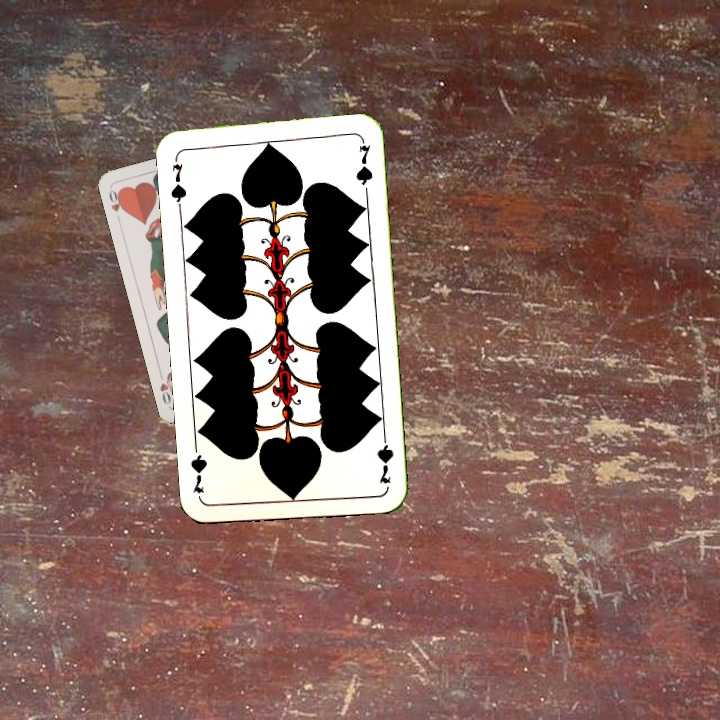G7: (166, 151, 189, 210), (373, 428, 396, 486)
HO: (105, 185, 128, 215)
